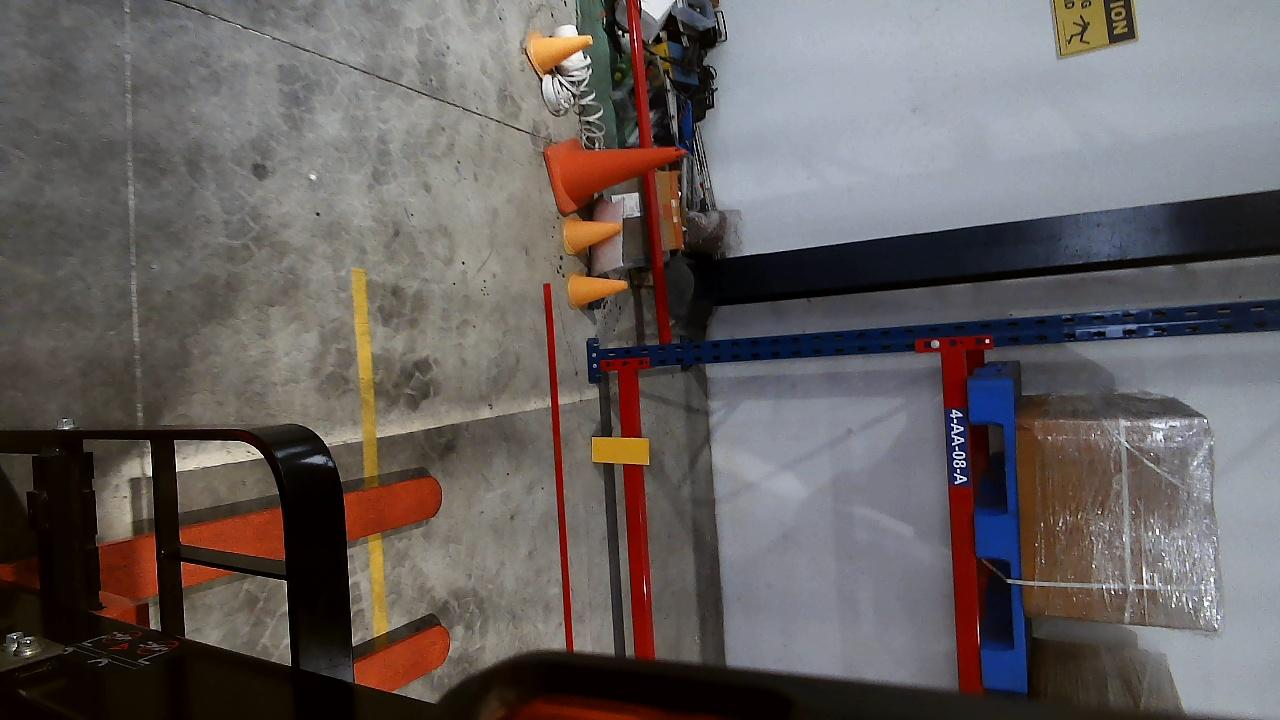h_rack: (941, 351, 984, 690), (616, 370, 653, 655)
orange_strip: (591, 437, 650, 465)
red_line: (537, 282, 580, 647)
small_pallet: (970, 378, 1033, 687)
yellow_line: (354, 267, 394, 636)
